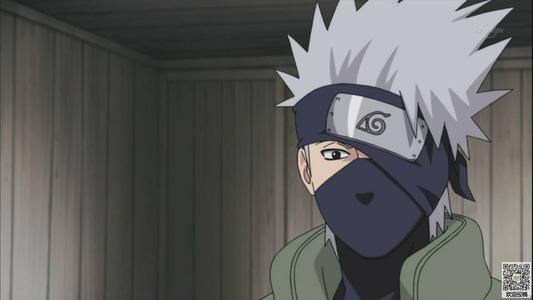kakashi: (290, 82, 458, 261)
